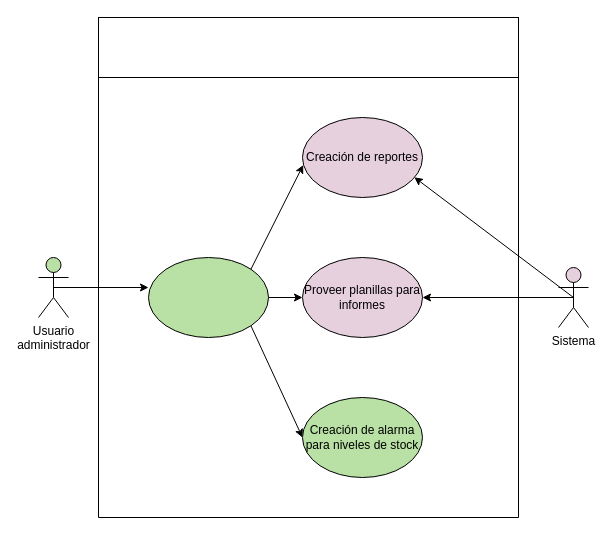
Some shapes in this 612 by 535 pixel diagram are drawn without their labels. Each missing label, with the centre of its shape:
Administración de reportes: point 208,297
Reporte y análisis: point 308,47
